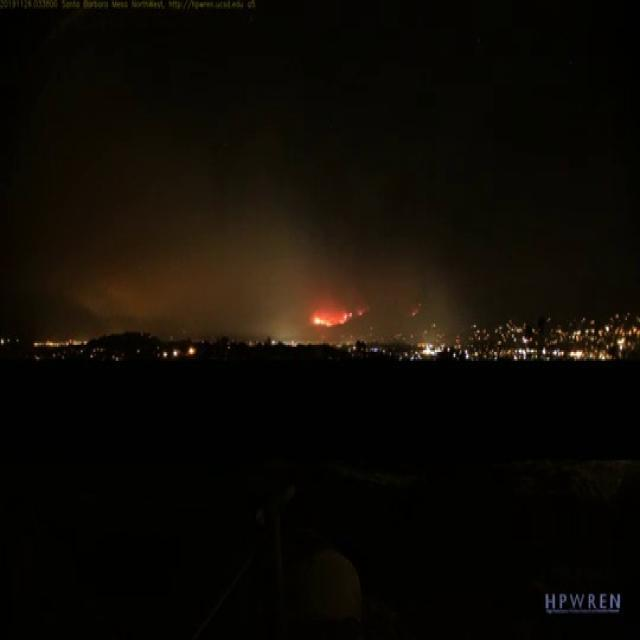Fire: (314, 306, 353, 330)
Smoke: (73, 208, 454, 340)
